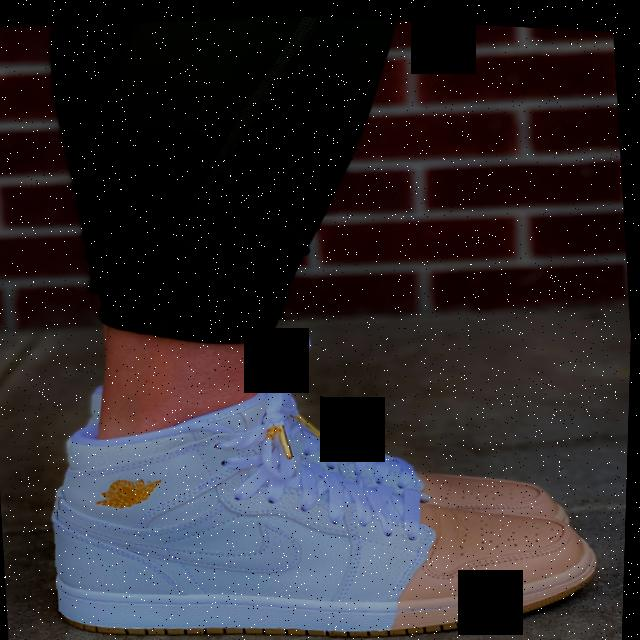shoe: (0, 368, 630, 640)
